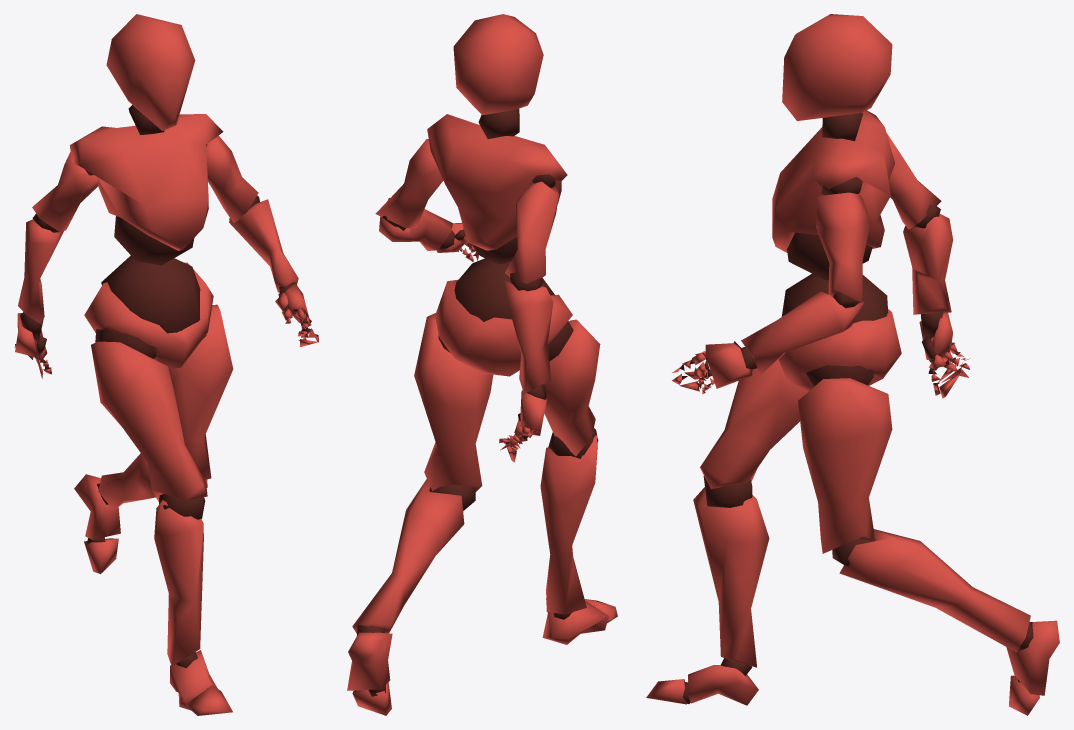
3 views of the same model, side by side, from view 1: azimuth 30°, elevation 25°; view 2: azimuth 150°, elevation 25°; view 3: azimuth 270°, elevation 25° (orthographic). The views are drawn at different scales.
Parts seen in each view (by area): view 1: Beta_Surface; view 2: Beta_Surface; view 3: Beta_Surface.
Part boxes in pixels (x1,y1,x2,y2): Beta_Surface: (14, 14, 318, 715); Beta_Surface: (347, 14, 617, 715); Beta_Surface: (646, 14, 1059, 715).
Size of the model in its own units: 4.76 by 14.13 by 7.64.
